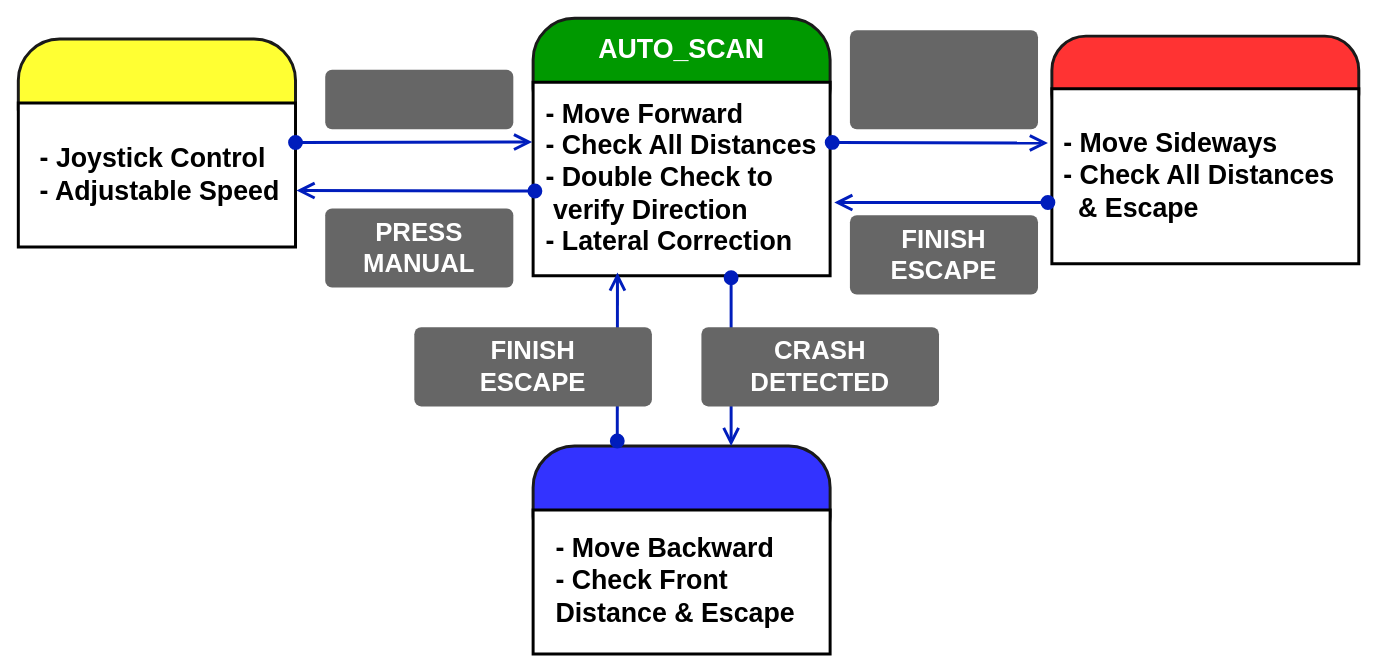
Image size: 1377x672. Some labels were removed from this diagram. The shapes that lost their labels are listed below. From the top down, each one's centre as x and y in pixels, then its label:
At point 156,94: "MANUAL".
At point 419,99: "PRESS AUTO".
At point 943,79: "SHORT-RANGE DISTANCE".
At point 1205,81: "AUTO_AVOID".
At point 681,501: "AUTO_BACK".
